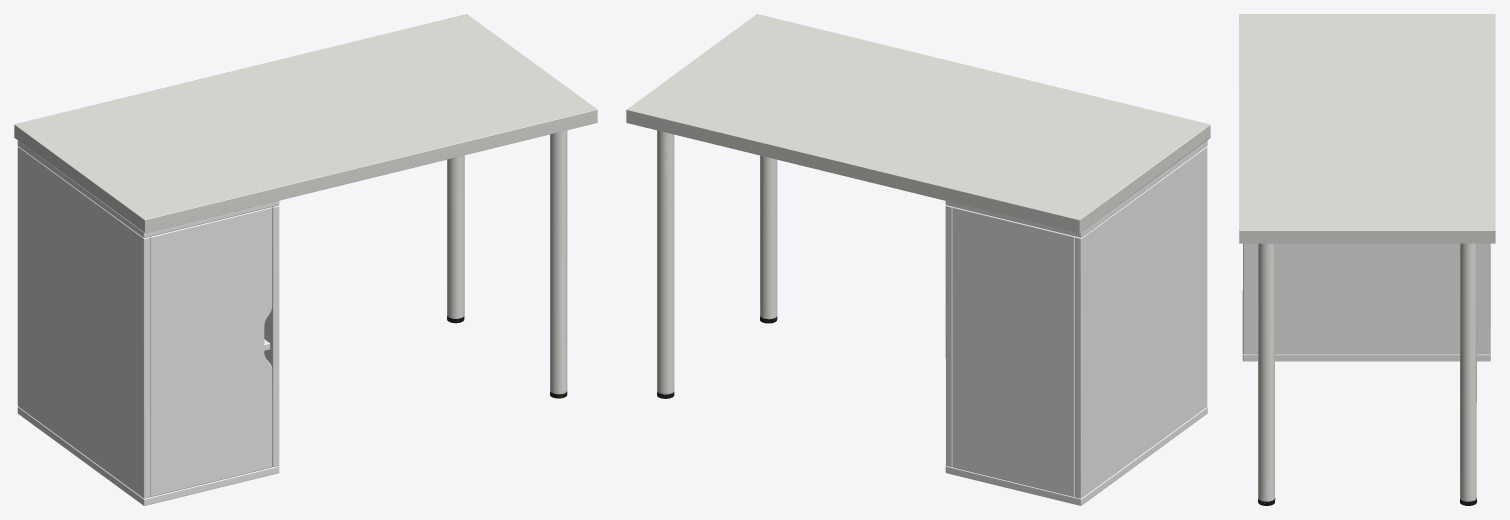
The model's file is lagkapten_alex_biurko_99521435.glb.
3 renders of one model, left to right at view 1: azimuth 30°, elevation 25°; view 2: azimuth 150°, elevation 25°; view 3: azimuth 270°, elevation 25°, orthographic. The views are drawn at different scales.
Visible parts, largest first — view 1: lagkapten_alex_biurko_99521435; view 2: lagkapten_alex_biurko_99521435; view 3: lagkapten_alex_biurko_99521435.
Part boxes in pixels (<box>): lagkapten_alex_biurko_99521435: <box>14,14,597,505</box>; lagkapten_alex_biurko_99521435: <box>626,14,1210,505</box>; lagkapten_alex_biurko_99521435: <box>1239,14,1495,505</box>.
Size of the model in its own units: 1.2 by 0.7334 by 0.5999.
Materials: 1 (1 with a texture image).
